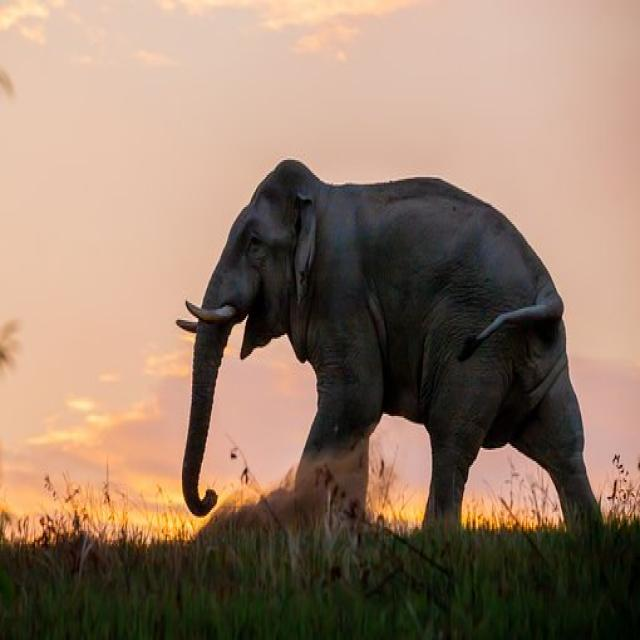Elephant: (153, 142, 619, 618)
